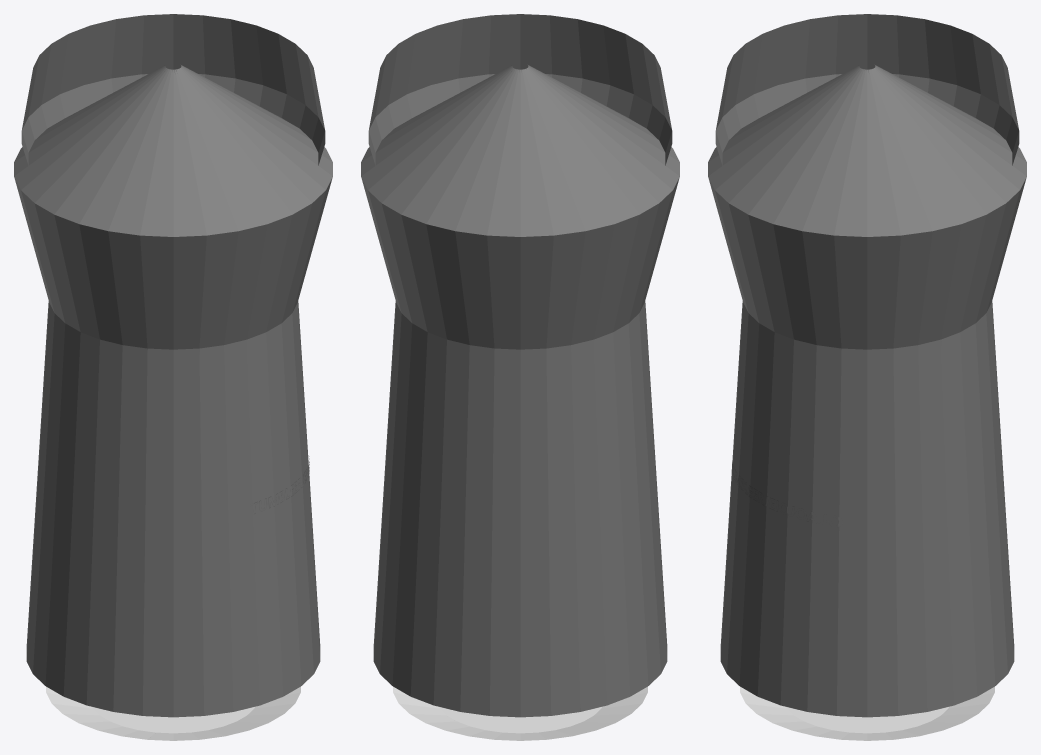
The picture shows the model from 3 angles, left to right: view 1: azimuth 30°, elevation 25°; view 2: azimuth 150°, elevation 25°; view 3: azimuth 270°, elevation 25°; orthographic projection.
Parts seen in each view (by area): view 1: algeomath; view 2: algeomath; view 3: algeomath, 스티커.
Boxes of the visible parts, <box> form: algeomath: <box>14,14,332,740</box>; algeomath: <box>361,14,679,740</box>; algeomath: <box>708,14,1026,740</box>; 스티커: <box>731,463,842,527</box>.
Bounding box in the file's own units: 3.85 × 8.36 × 3.83.
Materials: 2 (2 with a texture image).
